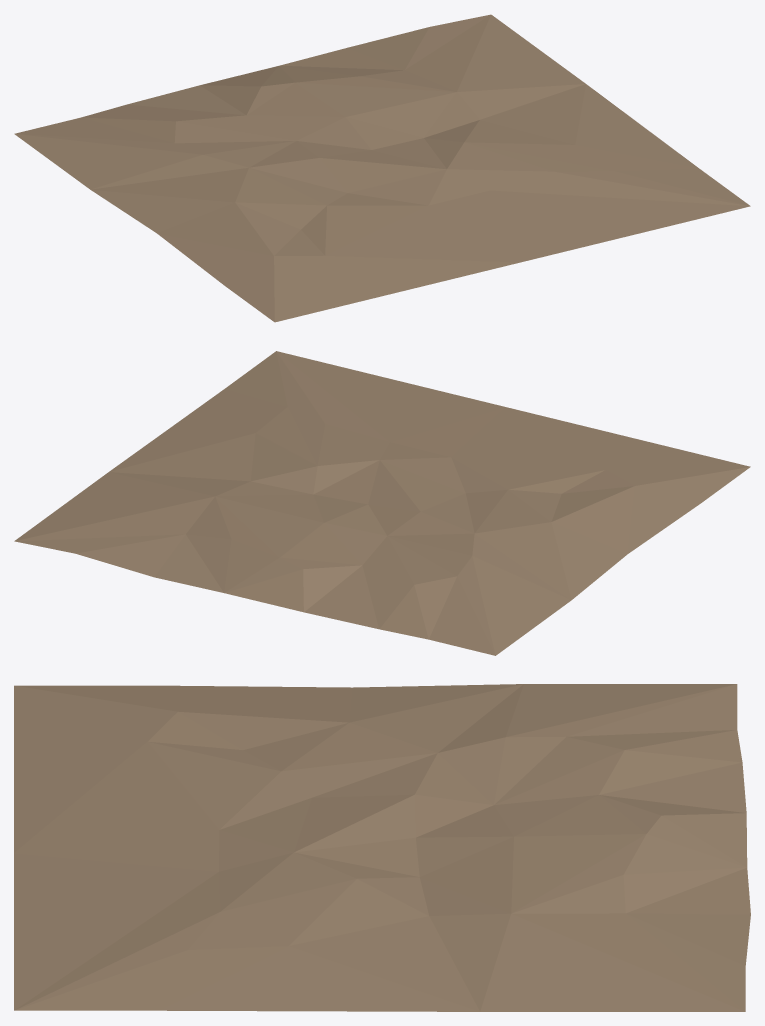
The model's file is SM_Env_Ground_Square_01.glb.
3 renders of one model, top to bottom at view 1: azimuth 30°, elevation 25°; view 2: azimuth 150°, elevation 25°; view 3: azimuth 270°, elevation 25°, orthographic. The views are drawn at different scales.
Visible parts, largest first — view 1: SM_Env_Ground_Square_01; view 2: SM_Env_Ground_Square_01; view 3: SM_Env_Ground_Square_01.
Part boxes in pixels (x1,y1,x2,y2): SM_Env_Ground_Square_01: (14,14,750,322); SM_Env_Ground_Square_01: (14,351,750,655); SM_Env_Ground_Square_01: (14,684,750,1011).
Bounding box in the file's own units: 14.02 × 0.3983 × 13.31.
1 material, 1 textured.
